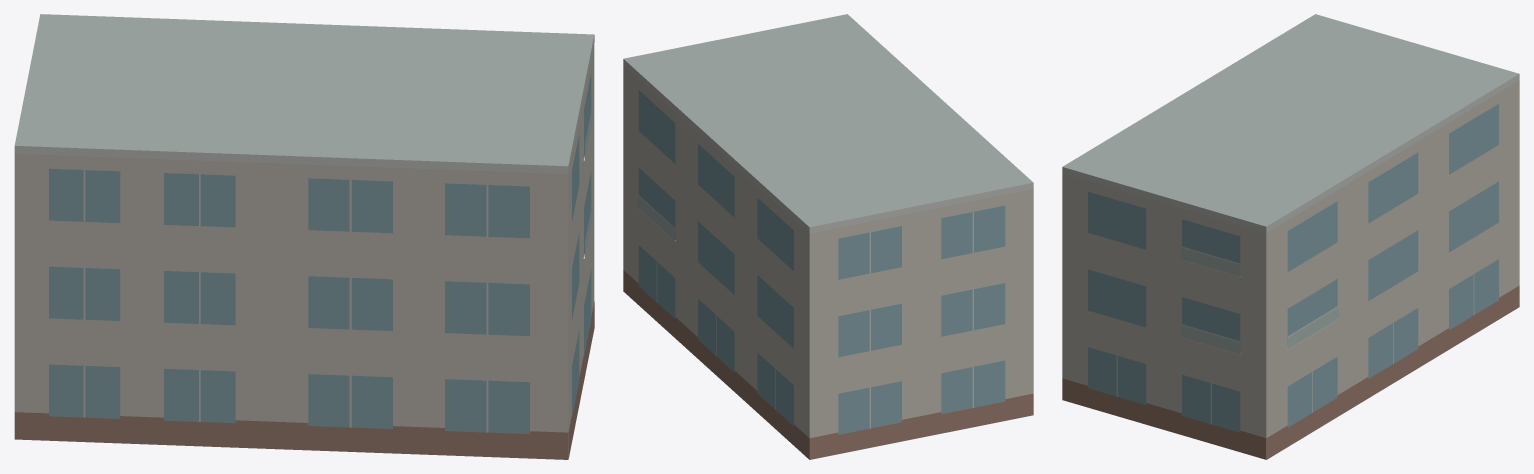
Rendered from survey-upis-32983800.glb.
The picture shows the model from 3 angles, left to right: view 1: azimuth 30°, elevation 25°; view 2: azimuth 150°, elevation 25°; view 3: azimuth 270°, elevation 25°; orthographic projection. The views are drawn at different scales.
Visible parts, largest first — view 1: survey-upis-32983800.tmp; view 2: survey-upis-32983800.tmp; view 3: survey-upis-32983800.tmp.
Part boxes in pixels (x1,y1,x2,y2): survey-upis-32983800.tmp: [14, 14, 594, 459]; survey-upis-32983800.tmp: [623, 14, 1033, 459]; survey-upis-32983800.tmp: [1062, 14, 1519, 459].
Bounding box in the file's own units: 17.91 × 9.15 × 16.27.
